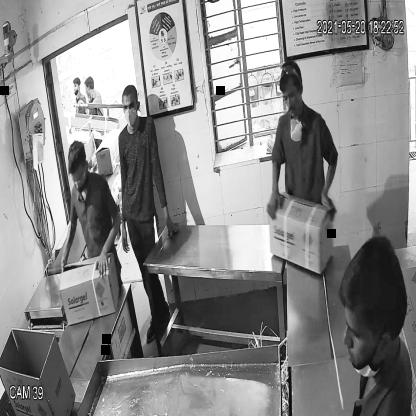no_goggles: (280, 84, 300, 106), (121, 98, 140, 114)
